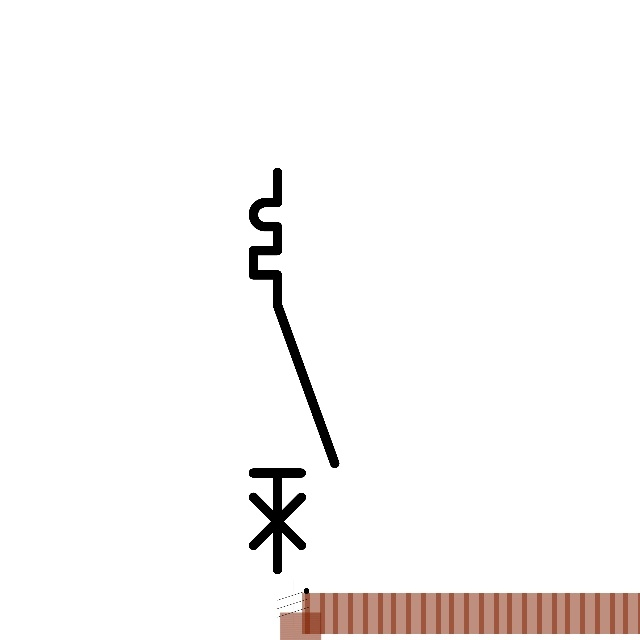interruptor_termomagnetico: (243, 162, 345, 580)
